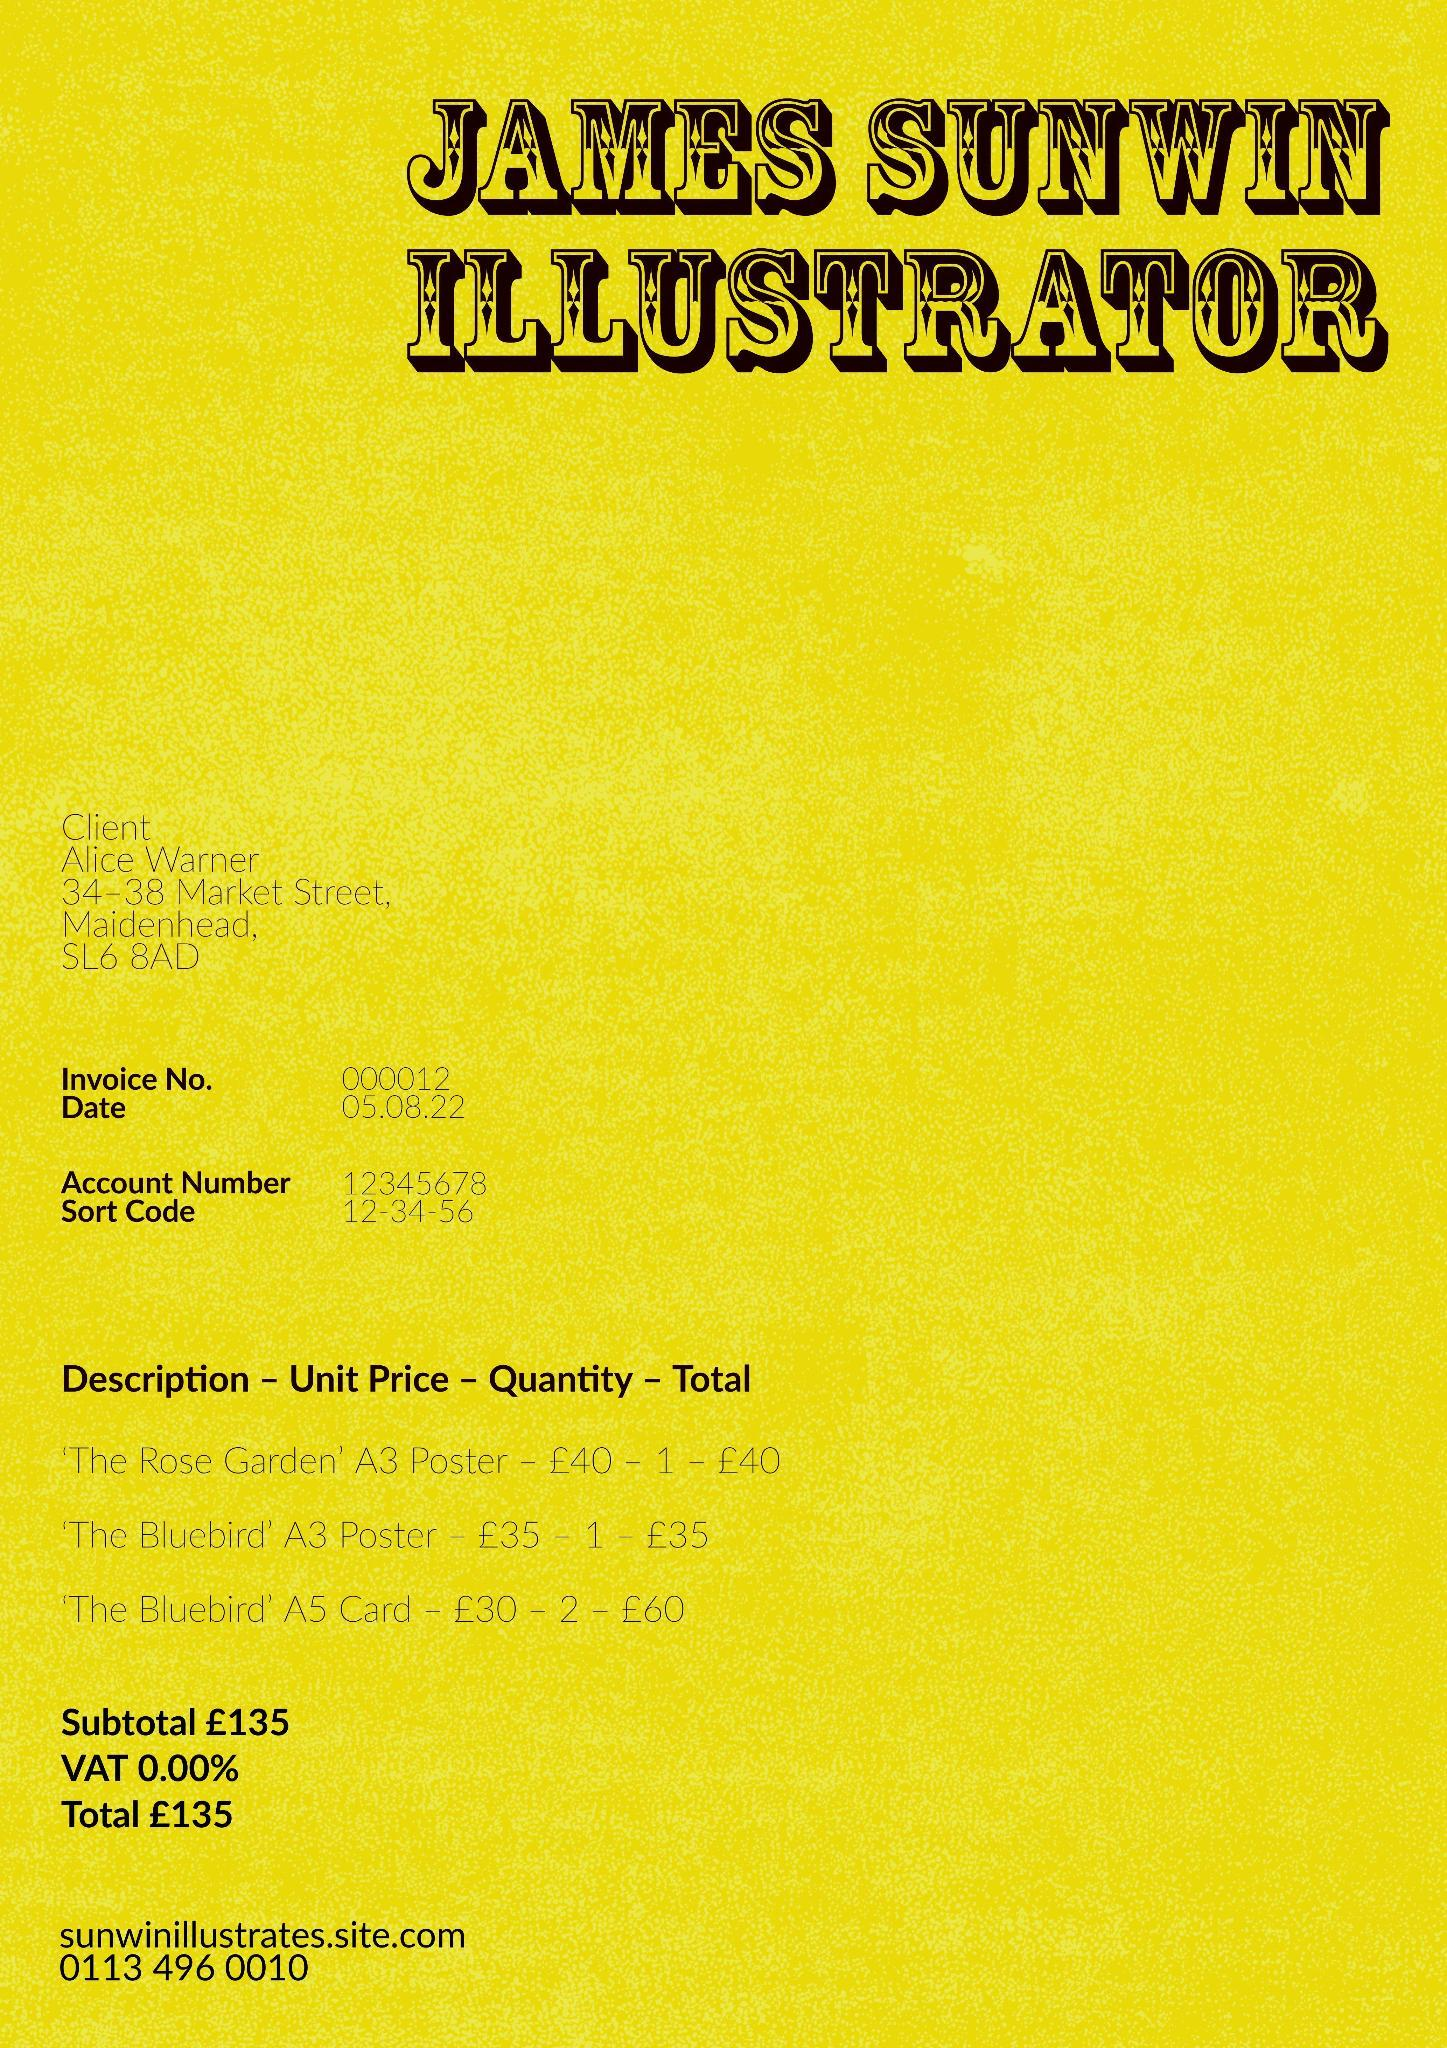ROI: (368, 86, 1409, 390), (58, 1359, 808, 1632), (42, 806, 398, 975), (61, 1705, 315, 1843), (60, 1058, 487, 1138), (60, 1166, 495, 1245), (63, 1921, 478, 1989)
